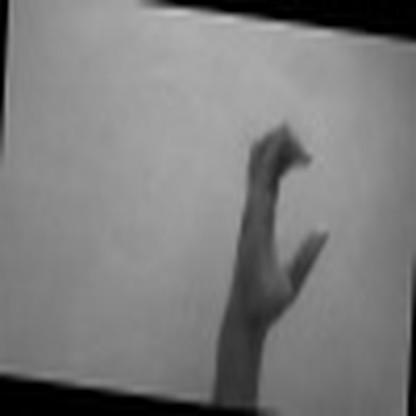c: (236, 116, 333, 311)
